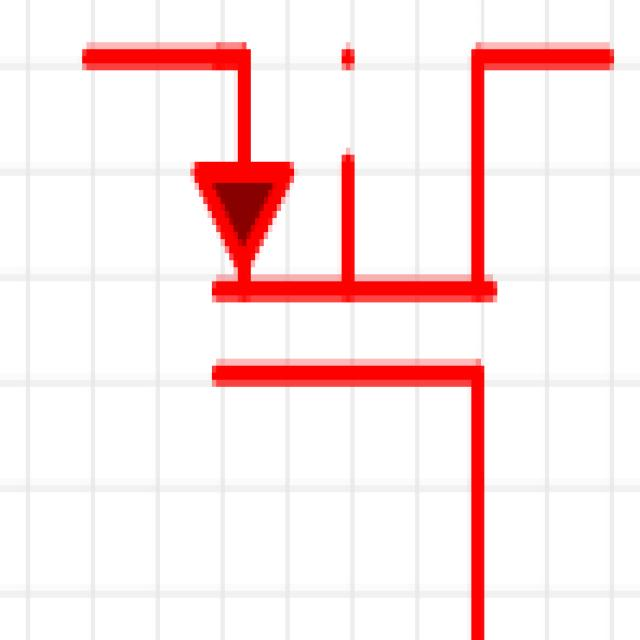pmos: (73, 0, 640, 640)
